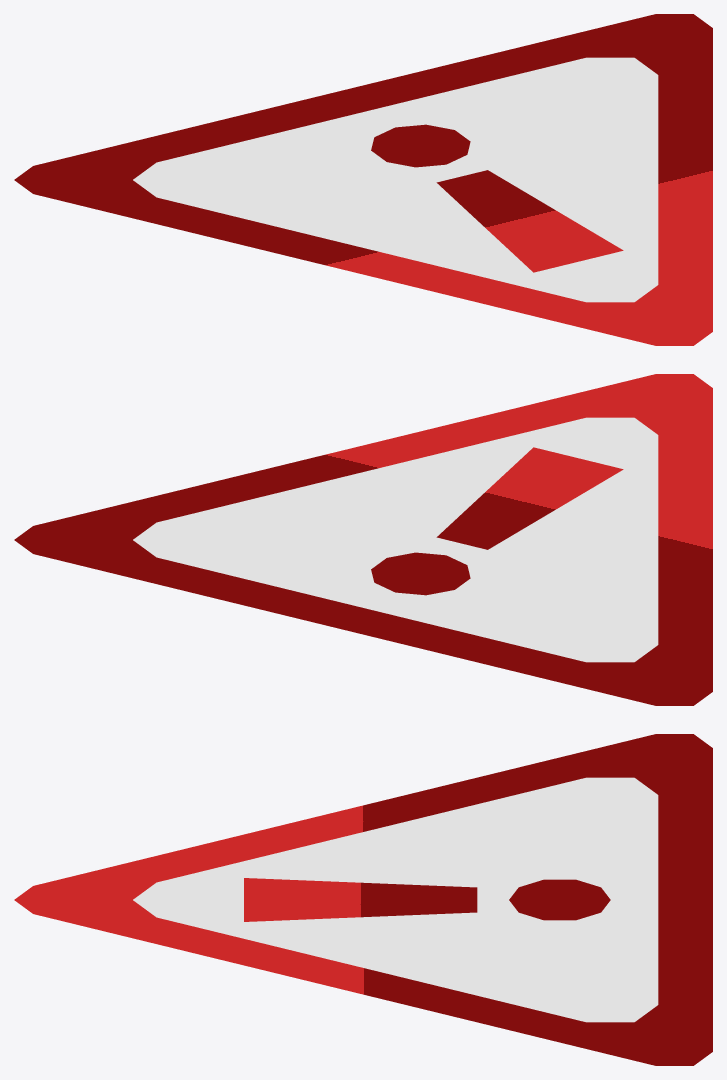
The model's file is Decal_Warning_Collider_None.glb.
3 renders of one model, top to bottom at view 1: azimuth 30°, elevation 25°; view 2: azimuth 150°, elevation 25°; view 3: azimuth 270°, elevation 25°, orthographic.
Visible parts, largest first — view 1: Decal_Warning_Collider_None; view 2: Decal_Warning_Collider_None; view 3: Decal_Warning_Collider_None.
Part boxes in pixels (x1,y1,x2,y2): Decal_Warning_Collider_None: (14,14,712,345); Decal_Warning_Collider_None: (14,374,712,705); Decal_Warning_Collider_None: (14,734,712,1065).
Size of the model in its own units: 1.65 by 2.38e-07 by 1.47.
1 material, 1 textured.
